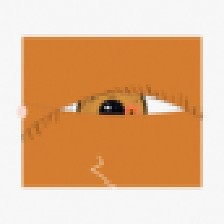foreign_body_visible: (122, 104, 141, 119)
